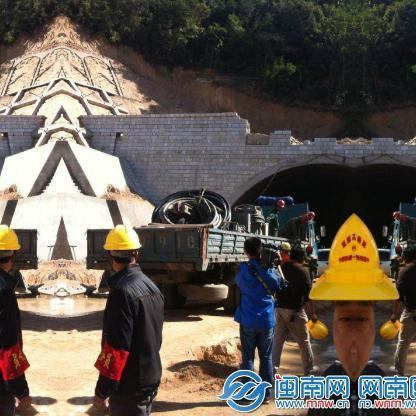helmet: (100, 220, 143, 253)
